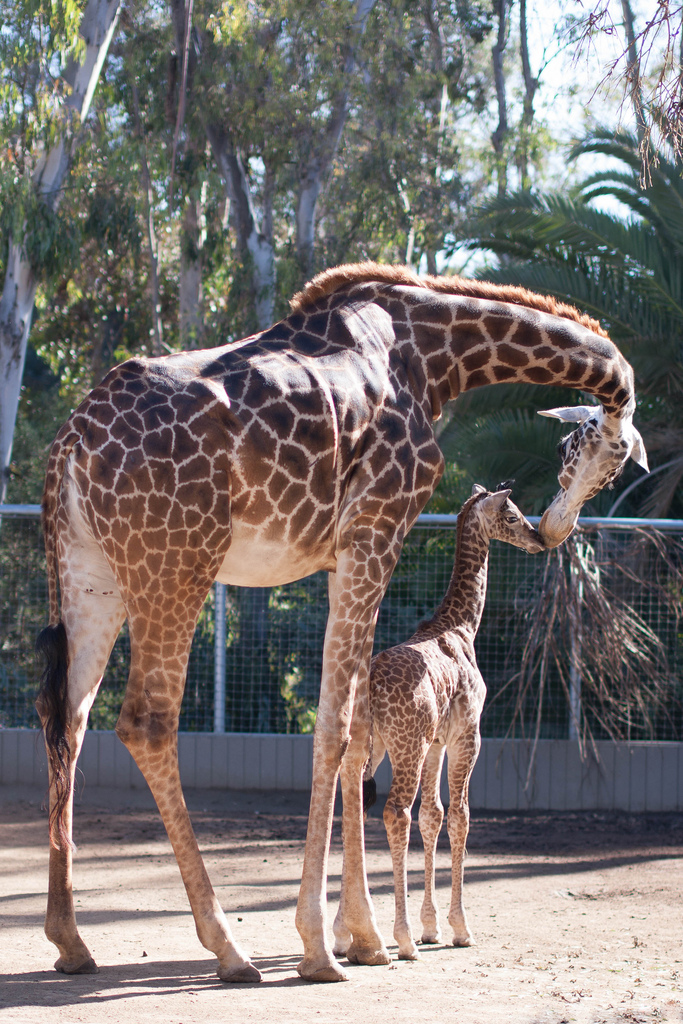giraffe: (70, 236, 646, 1017), (370, 461, 556, 968)
